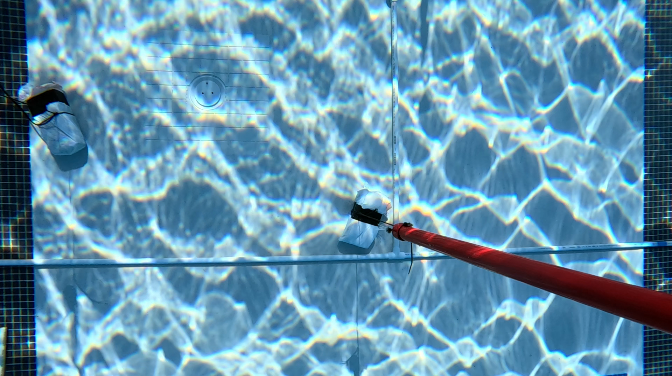sandbag: (14, 78, 85, 154), (340, 186, 390, 249)
